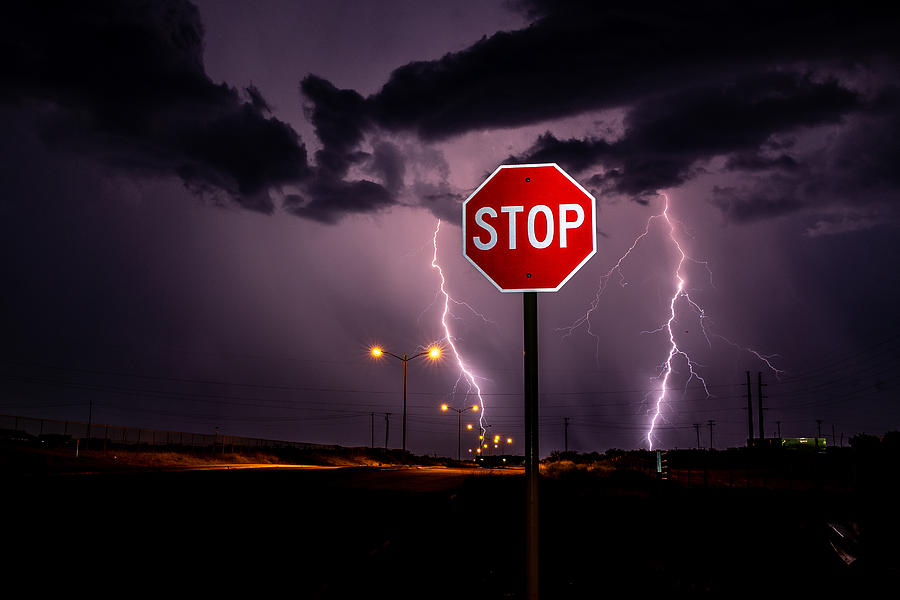stop: (456, 160, 602, 298)
